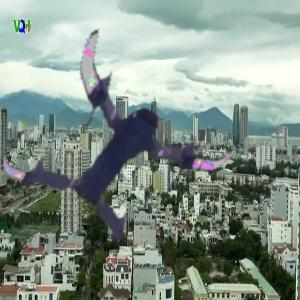drone: (21, 33, 235, 247)
